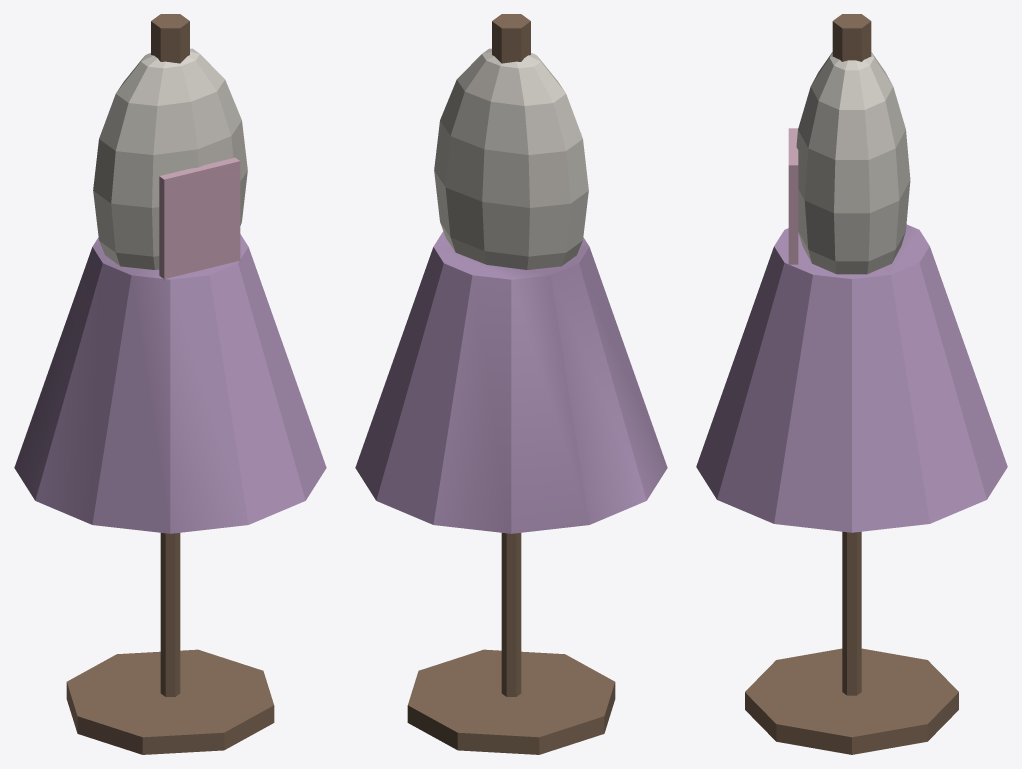
The model's file is DressMannequin.fbx.
3 renders of one model, left to right at view 1: azimuth 30°, elevation 25°; view 2: azimuth 150°, elevation 25°; view 3: azimuth 270°, elevation 25°, orthographic.
Parts seen in each view (by area): view 1: Prop_DressMannequin; view 2: Prop_DressMannequin; view 3: Prop_DressMannequin.
Part boxes in pixels (box(x1,y1,x2,y2)): Prop_DressMannequin: box(14, 14, 326, 754); Prop_DressMannequin: box(355, 14, 667, 754); Prop_DressMannequin: box(696, 14, 1007, 754).
Size of the model in its own units: 0.64 by 1.56 by 0.64.
